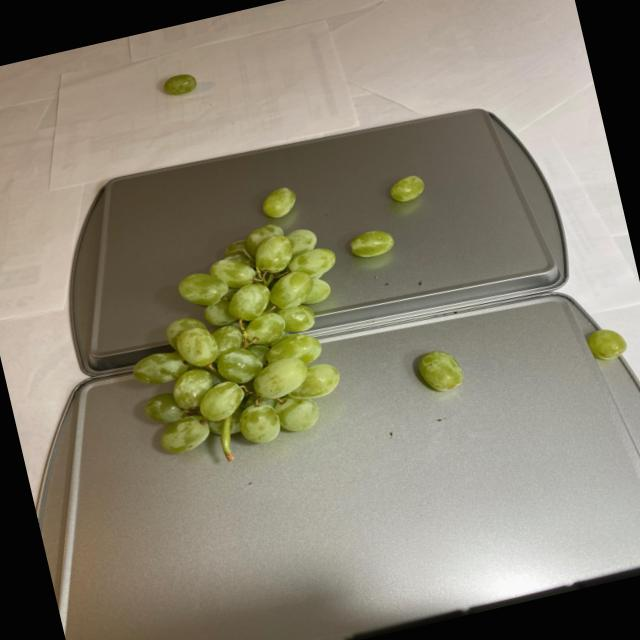grapes: (96, 152, 478, 480), (580, 319, 632, 367), (160, 67, 198, 101)
